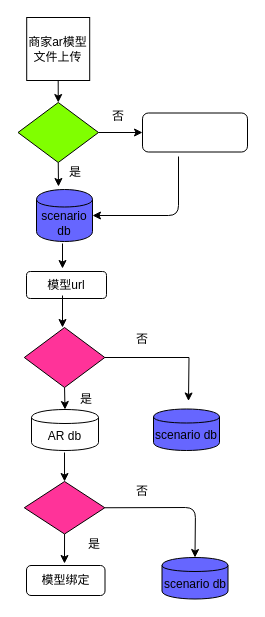
The diagram is 265 pixels wide and 617 high, and some of its shapes have lost their labels. Each missing label, with the centre of its shape:
"商家绑定 sku" belongs at pixel 64 507.
"子泰模型 上传接口" belongs at pixel 64 357.
"徐森模型 检测" belongs at pixel 57 132.
"返回检测失败原因" belongs at pixel 195 132.
